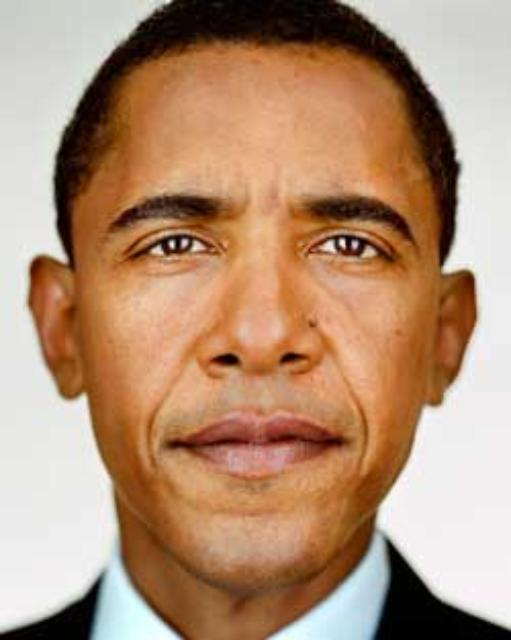frown_line: (235, 178, 255, 220)
gummy_smile: (129, 364, 169, 480), (344, 384, 380, 472)
